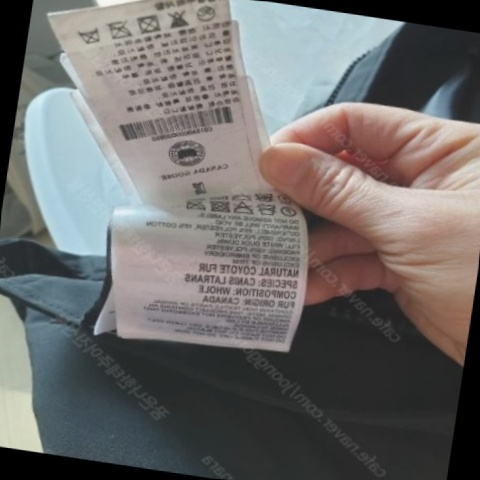DN_bleach: (166, 7, 192, 31), (230, 199, 255, 218)
DN_iron: (104, 15, 132, 43), (183, 196, 207, 215)
DN_tumble_dry: (132, 10, 163, 37), (207, 196, 233, 216)
DN_wash: (74, 23, 102, 47), (254, 202, 279, 219), (252, 188, 275, 206)
dry_clean: (194, 1, 218, 25)
dry_clean_any_solvent_except_trichloroethylene: (277, 204, 298, 219), (278, 190, 293, 206)
